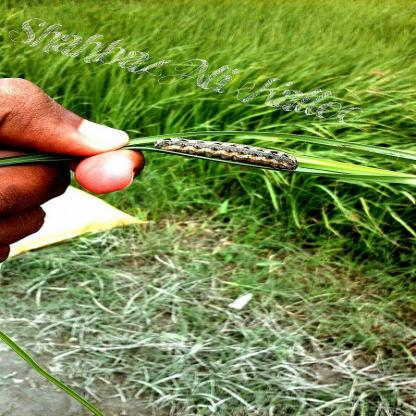armyworm: (144, 129, 318, 175)
